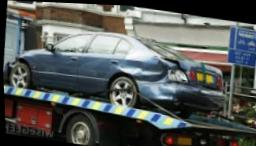Bumper: (136, 79, 227, 109), (2, 57, 18, 83)
Dickey: (155, 54, 224, 91)
Fender: (115, 42, 167, 86)
Light: (164, 68, 189, 82)
